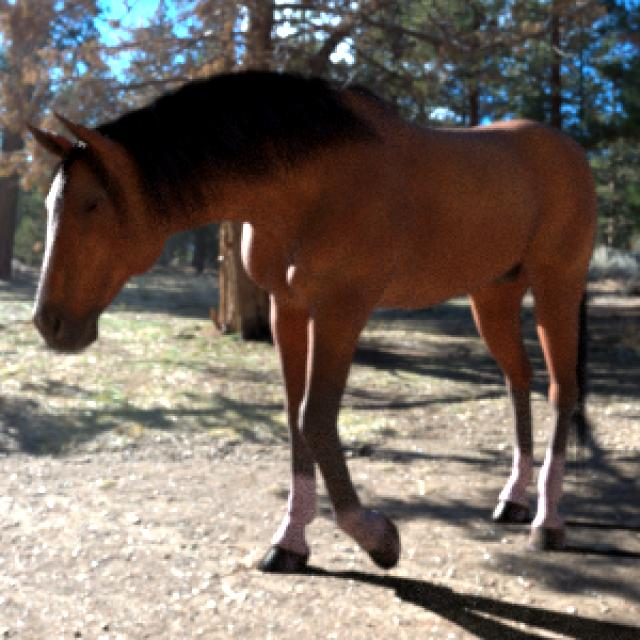horse: (31, 71, 596, 572)
